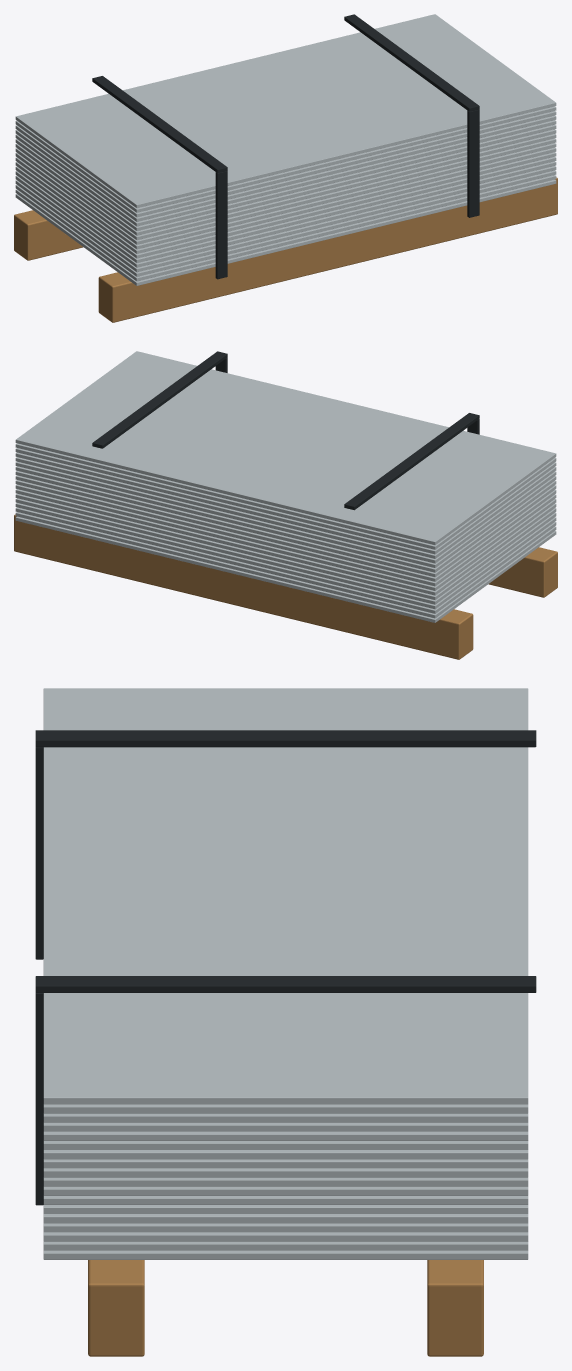
Rendered from banded_sheet_metal_stack.glb.
3 views of the same model, one above another, from view 1: azimuth 30°, elevation 25°; view 2: azimuth 150°, elevation 25°; view 3: azimuth 270°, elevation 25° (orthographic). The views are drawn at different scales.
Parts seen in each view (by area): view 1: SHEET_17, DUNNAGE_-0.42, SHEET_3, SHEET_8, SHEET_13, SHEET_1, SHEET_15, SHEET_6, SHEET_7, SHEET_9, SHEET_14, SHEET_2 (+12 smaller); view 2: SHEET_17, DUNNAGE_0.42, SHEET_3, SHEET_8, SHEET_9, SHEET_13, SHEET_14, SHEET_1, SHEET_2, SHEET_7, SHEET_15, SHEET_6 (+10 smaller); view 3: SHEET_17, BAND_top_-0.72, BAND_top_0.72, DUNNAGE_0.42, DUNNAGE_-0.42, SHEET_2, SHEET_8, SHEET_15, SHEET_0, SHEET_1, SHEET_3, SHEET_4 (+12 smaller).
Boxes of the visible parts, box(x1,y1,x2,y2) form: SHEET_17: box(15, 14, 556, 207); DUNNAGE_-0.42: box(98, 177, 557, 322); SHEET_3: box(15, 166, 556, 272); SHEET_8: box(15, 143, 556, 249); SHEET_13: box(15, 120, 556, 226); SHEET_1: box(15, 175, 556, 281); SHEET_15: box(15, 111, 556, 217); SHEET_6: box(15, 152, 556, 258); SHEET_7: box(15, 147, 556, 253); SHEET_9: box(15, 138, 556, 244); SHEET_14: box(15, 115, 556, 221); SHEET_2: box(15, 170, 556, 276); SHEET_17: box(15, 351, 556, 544); DUNNAGE_0.42: box(14, 514, 473, 659); SHEET_3: box(15, 503, 556, 609); SHEET_8: box(15, 480, 556, 586); SHEET_9: box(15, 475, 556, 581); SHEET_13: box(15, 457, 556, 563); SHEET_14: box(15, 452, 556, 558); SHEET_1: box(15, 512, 556, 618); SHEET_2: box(15, 507, 556, 613); SHEET_7: box(15, 484, 556, 590); SHEET_15: box(15, 448, 556, 554); SHEET_6: box(15, 489, 556, 595); SHEET_17: box(43, 688, 528, 1104); BAND_top_-0.72: box(35, 730, 536, 747); BAND_top_0.72: box(35, 976, 536, 992); DUNNAGE_0.42: box(427, 1260, 483, 1356); DUNNAGE_-0.42: box(88, 1260, 144, 1356); SHEET_2: box(43, 1232, 528, 1241); SHEET_8: box(43, 1177, 528, 1186); SHEET_15: box(43, 1113, 528, 1122); SHEET_0: box(43, 1250, 528, 1259); SHEET_1: box(43, 1241, 528, 1250); SHEET_3: box(43, 1223, 528, 1232); SHEET_4: box(43, 1214, 528, 1223).
Bounding box in the file's own units: 2.55 × 0.77 × 1.24.
